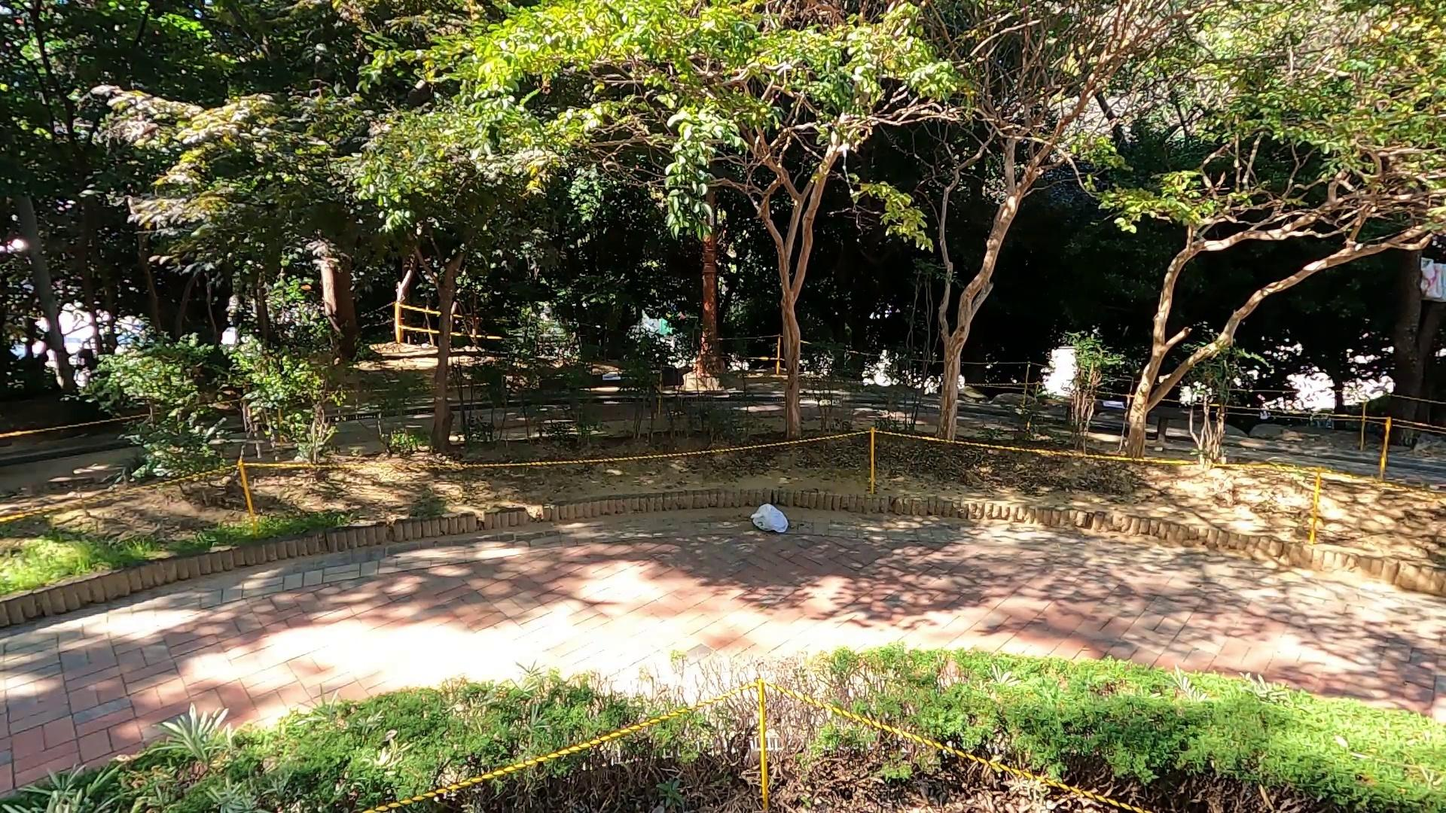trash: (742, 500, 794, 538)
